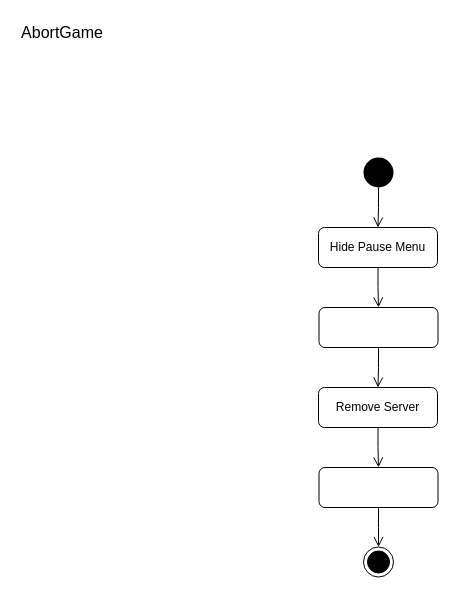
Image size: 455x594. Some labels were removed from this diagram. The box of each missing label's shape, as (x1, y1, x2, y2) in pixels:
Hide game scene: (318, 306, 438, 348)
Show Main Menu: (318, 466, 438, 508)
